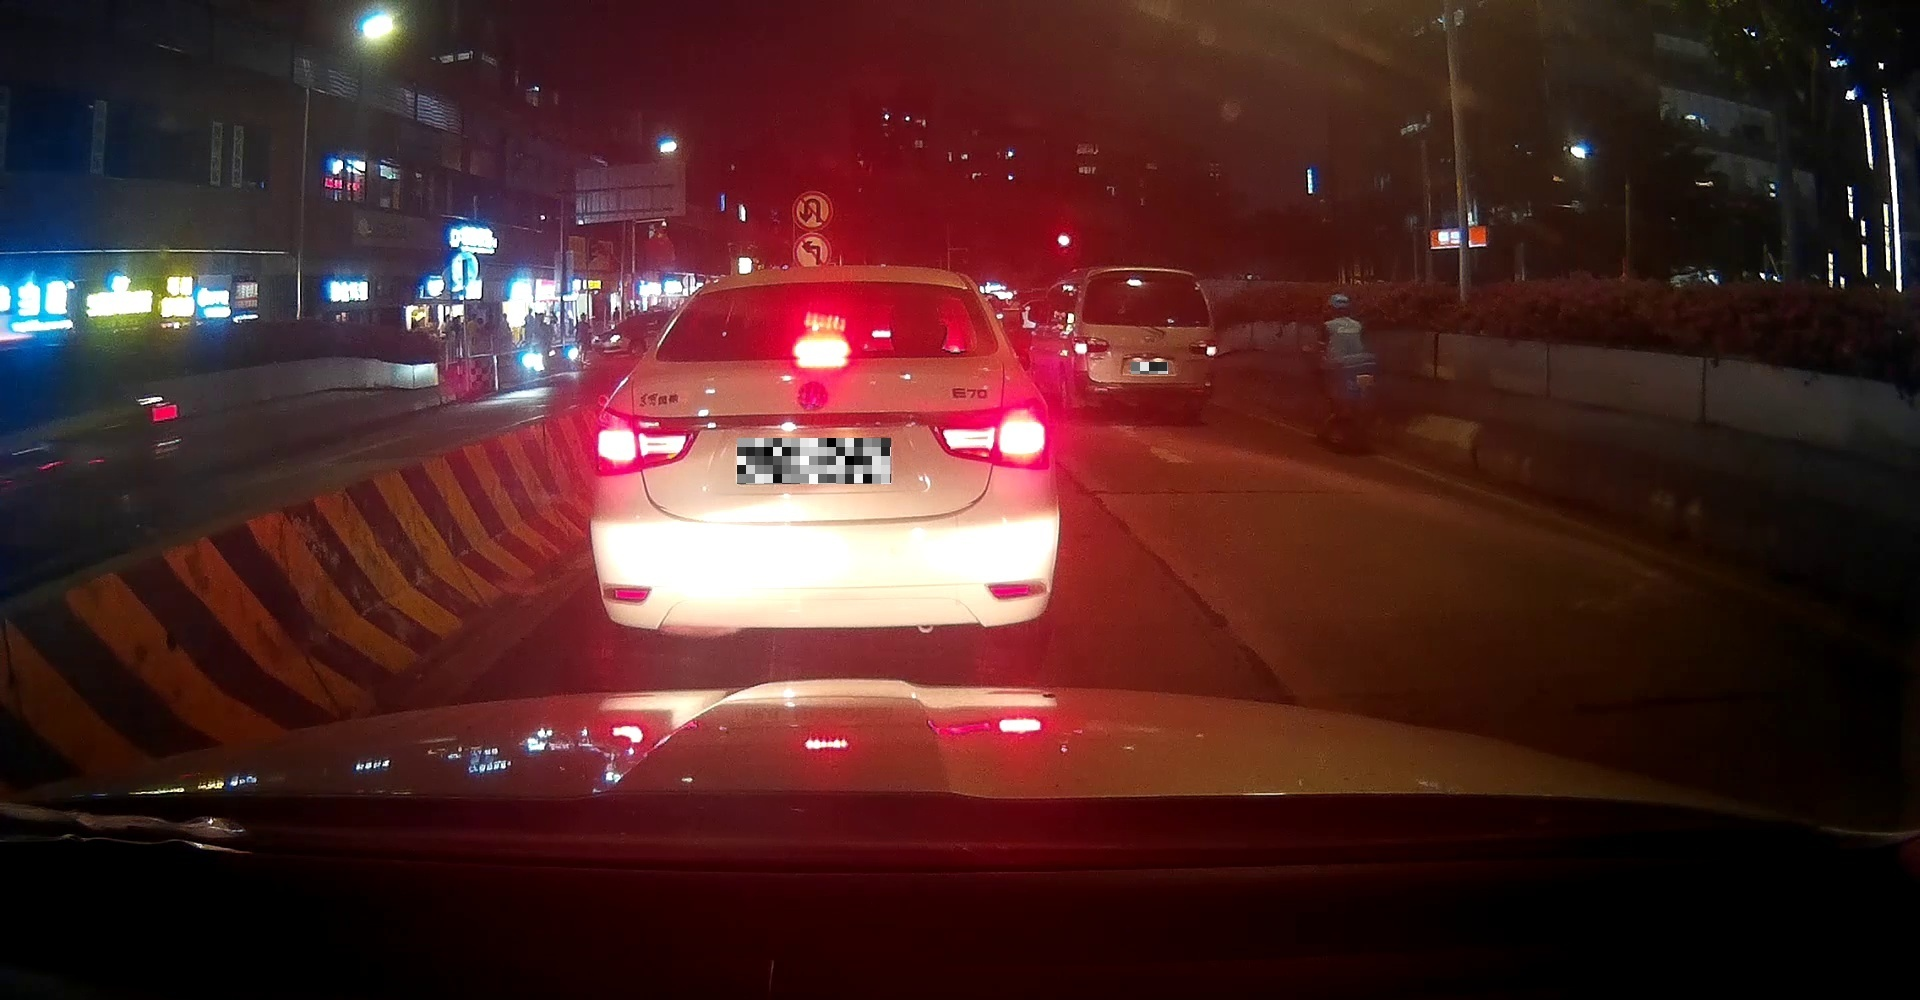L_light: (592, 407, 698, 476), (1070, 336, 1109, 354)
R_light: (928, 398, 1049, 470), (1189, 340, 1215, 355)
T_light: (795, 340, 848, 359), (1137, 275, 1159, 279)
night-brake: (590, 266, 1059, 665)
night-no: (1070, 268, 1217, 409)
plate_1: (737, 438, 891, 484)
plate_2: (1131, 362, 1168, 374)
